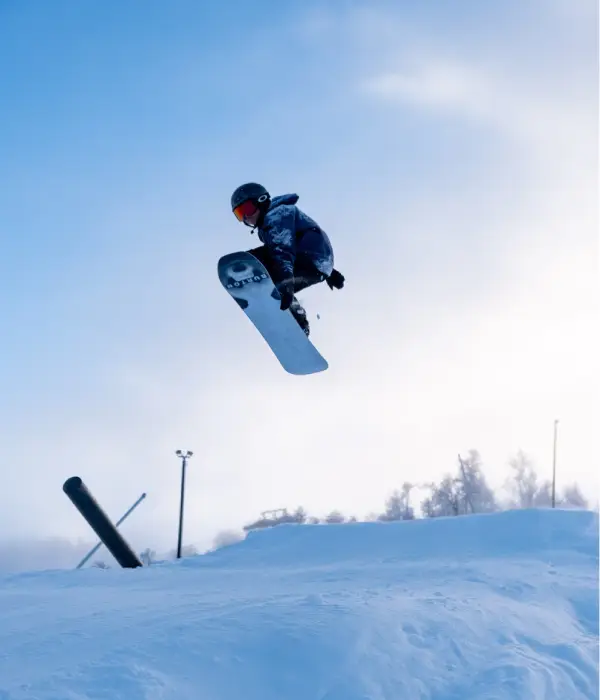snowboarder: (218, 184, 351, 378)
